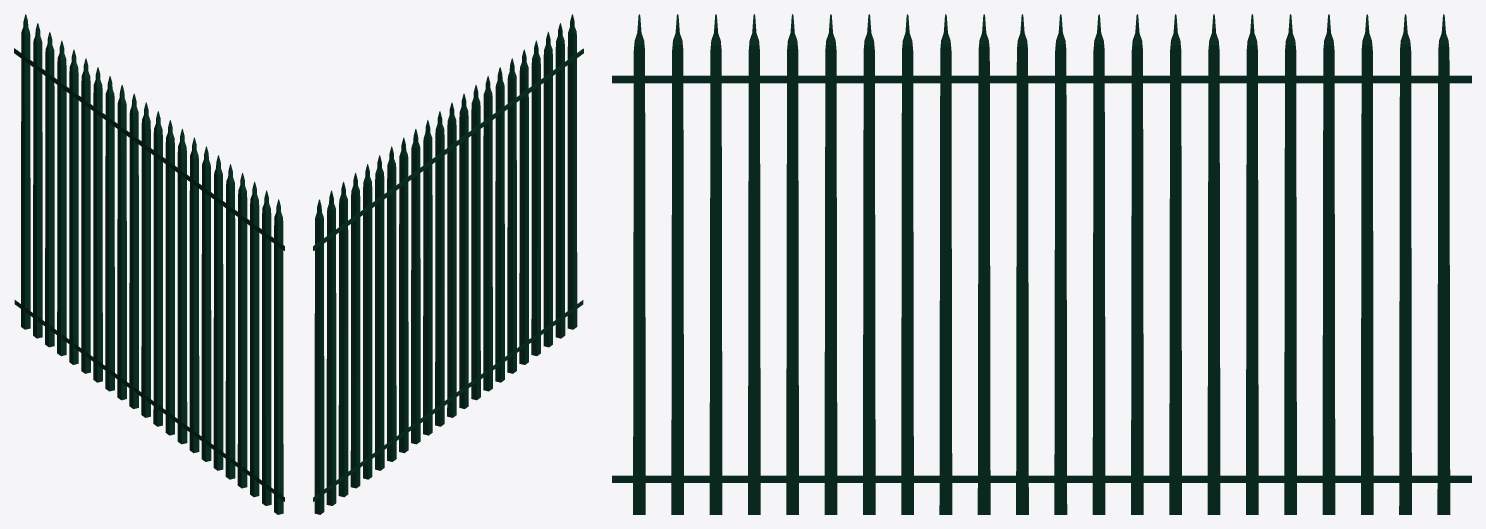
The model's file is green spikey fence only spike section.fbx.
3 views of the same model, side by side, from view 1: azimuth 30°, elevation 25°; view 2: azimuth 150°, elevation 25°; view 3: azimuth 270°, elevation 25° (orthographic). The views are drawn at different scales.
Parts seen in each view (by area): view 1: Spikey middle fence piece w spike number set; view 2: Spikey middle fence piece w spike number set; view 3: Spikey middle fence piece w spike number set.
Part boxes in pixels (x1=…): Spikey middle fence piece w spike number set: x1=14, y1=14, x2=284, y2=514; Spikey middle fence piece w spike number set: x1=313, y1=14, x2=583, y2=514; Spikey middle fence piece w spike number set: x1=612, y1=14, x2=1471, y2=514.
Size of the model in its own units: 19 by 982 by 1534.
